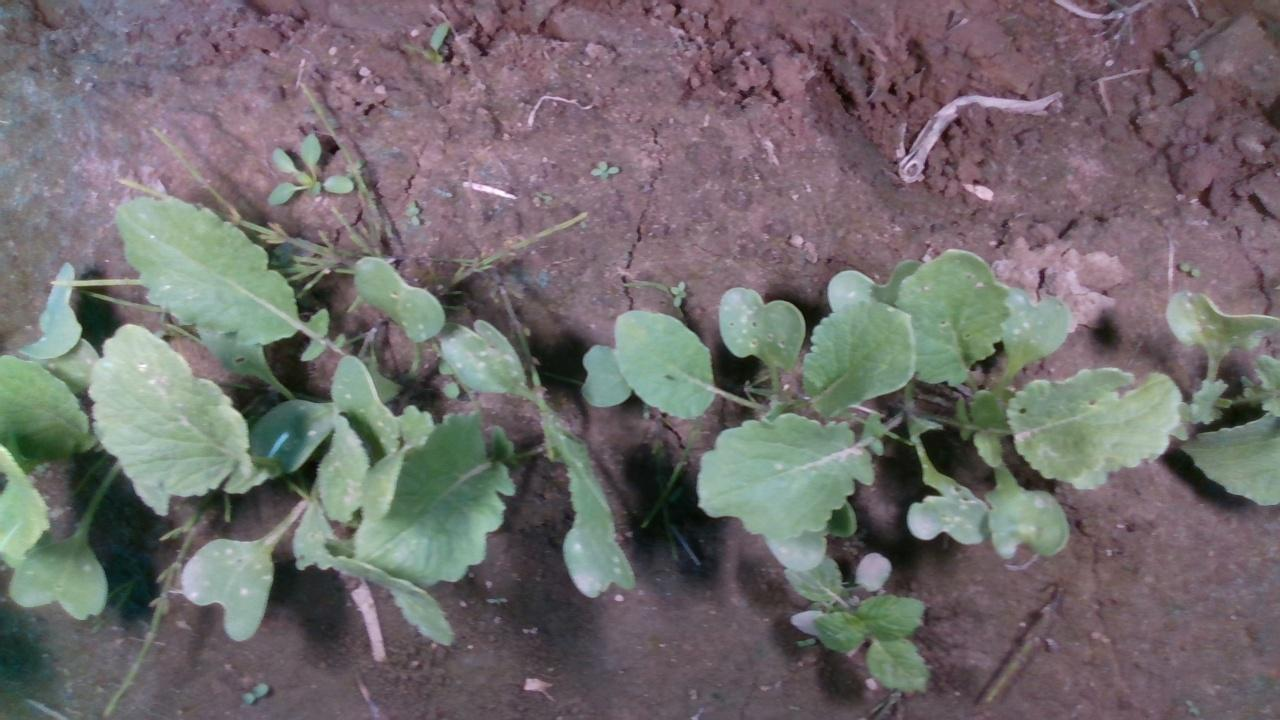weed: (587, 159, 620, 180), (240, 682, 269, 705), (1176, 260, 1199, 276)
